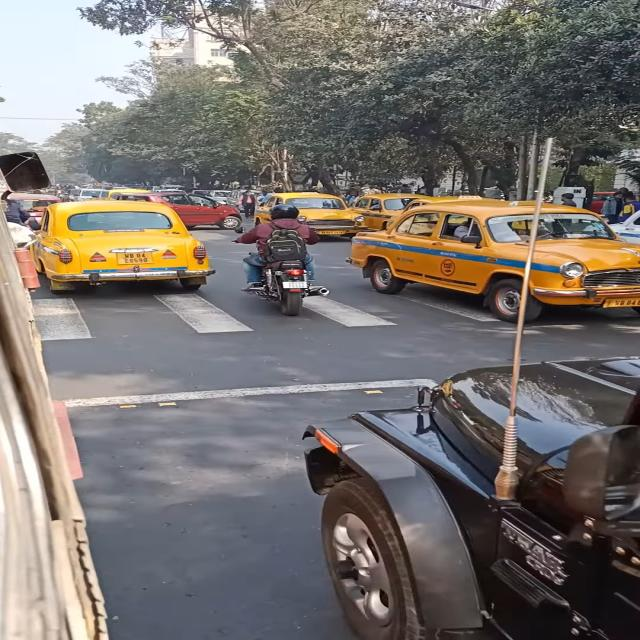Taxi: (355, 196, 640, 338)
